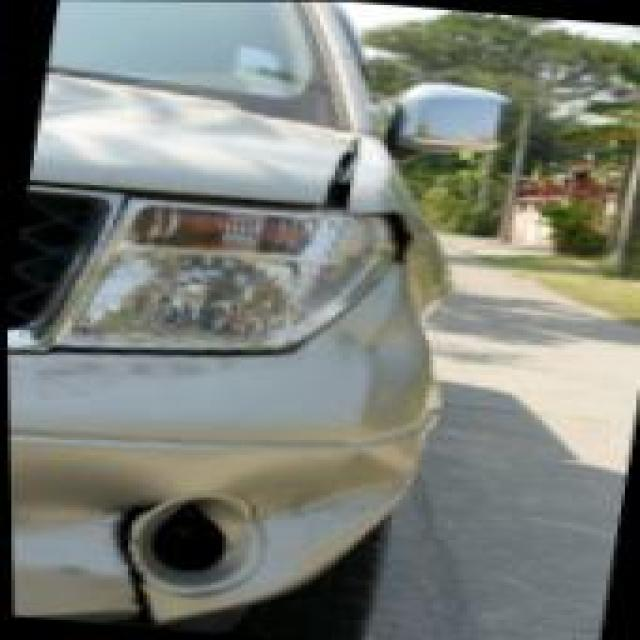Bonnet: (26, 105, 356, 204)
Bumper: (4, 310, 420, 640)
Fender: (309, 135, 500, 313)
